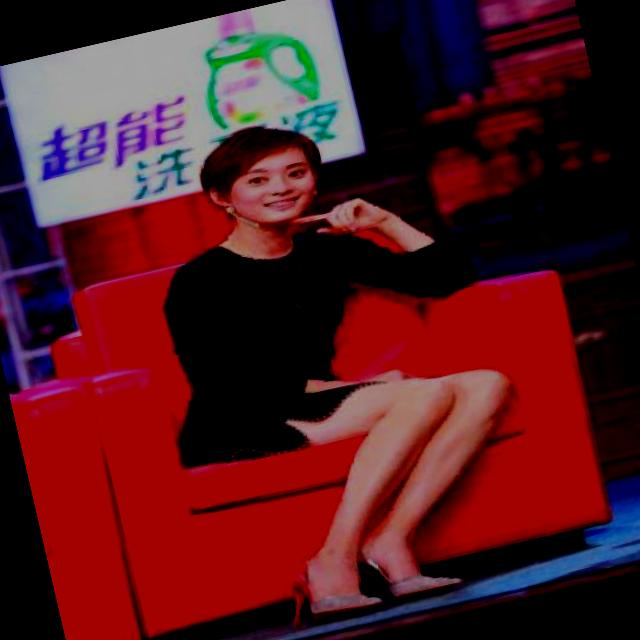Person: (116, 74, 535, 640)
